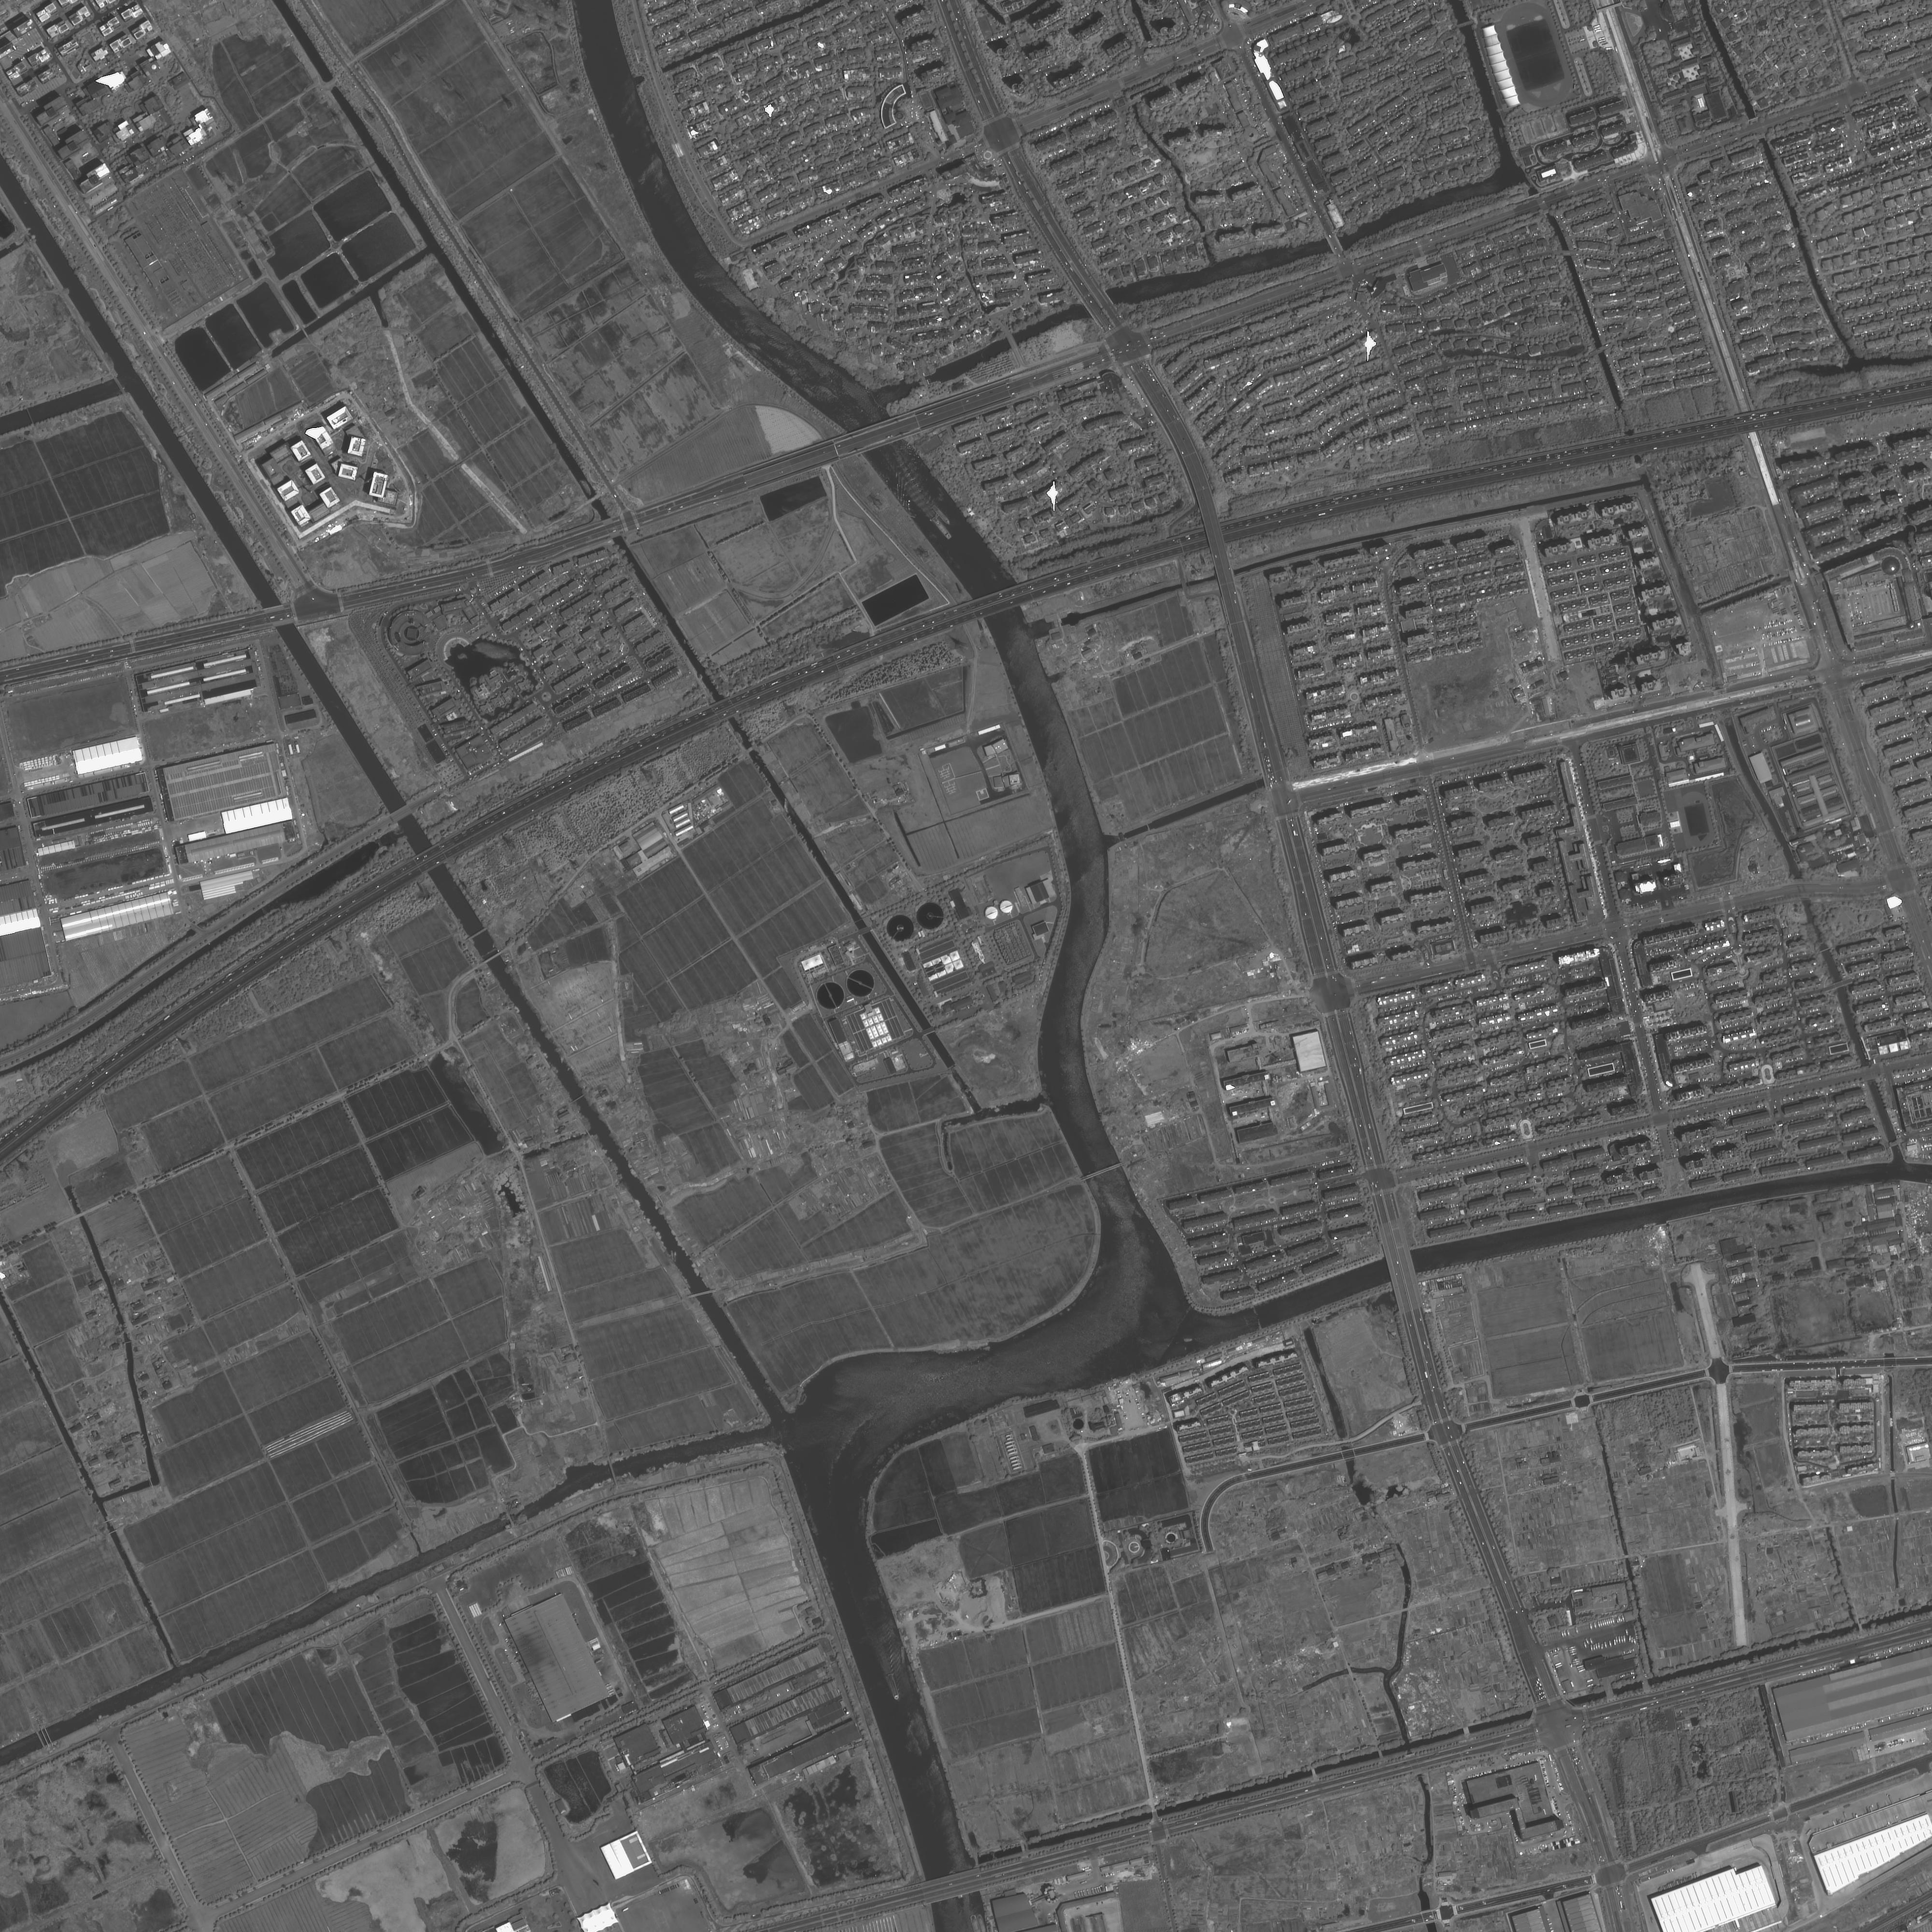ship: (931, 517, 954, 540), (932, 504, 952, 527), (885, 1674, 901, 1700), (977, 1913, 989, 1932), (970, 1914, 982, 1932)
